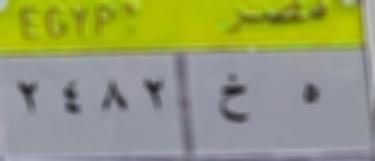2: (13, 75, 45, 118), (140, 71, 168, 112)
4: (56, 77, 86, 121)
8: (94, 77, 131, 122)
haa: (294, 72, 324, 114)
khaa: (207, 70, 258, 124)
